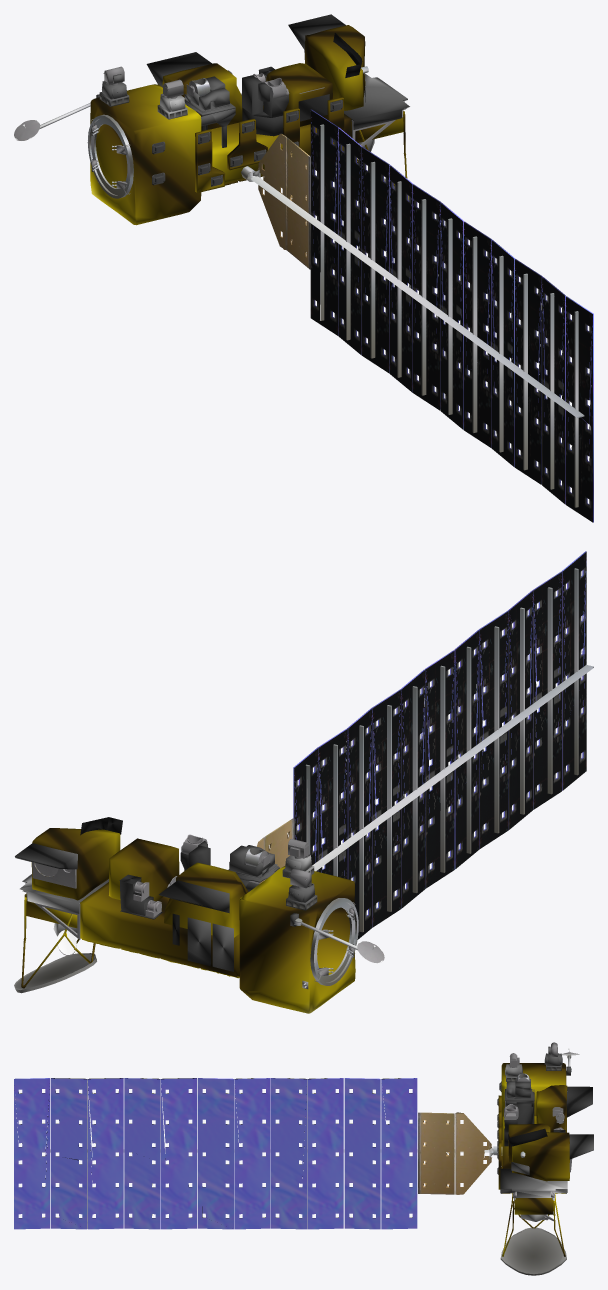
File: aqua.glb
3 views of the same model, one above another, from view 1: azimuth 30°, elevation 25°; view 2: azimuth 150°, elevation 25°; view 3: azimuth 270°, elevation 25° (orthographic). The views are drawn at different scales.
Visible parts, largest first — view 1: wing-Y, bus; view 2: wing-Y, bus; view 3: wing-Y, bus.
Part boxes in pixels (bbox=[...]): wing-Y: bbox=[247, 109, 593, 522]; bus: bbox=[14, 14, 409, 225]; wing-Y: bbox=[257, 551, 593, 939]; bus: bbox=[14, 817, 384, 1013]; wing-Y: bbox=[14, 1078, 493, 1229]; bus: bbox=[493, 1042, 593, 1275].
Size of the model in its own units: 8.83 by 4.77 by 16.7.
5 materials, 4 textured.
